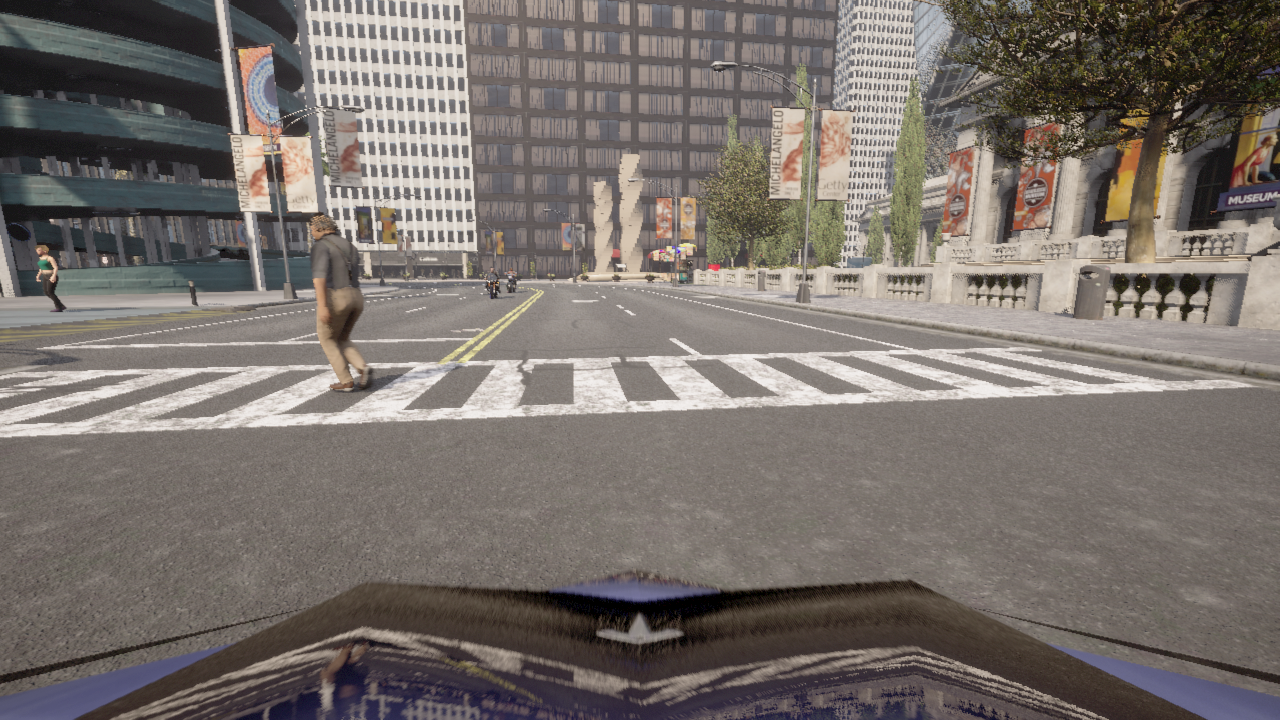cyclist: (0, 569, 1279, 719), (482, 273, 500, 299), (508, 272, 516, 293)
pedestrian: (307, 212, 373, 391), (35, 245, 66, 312)
